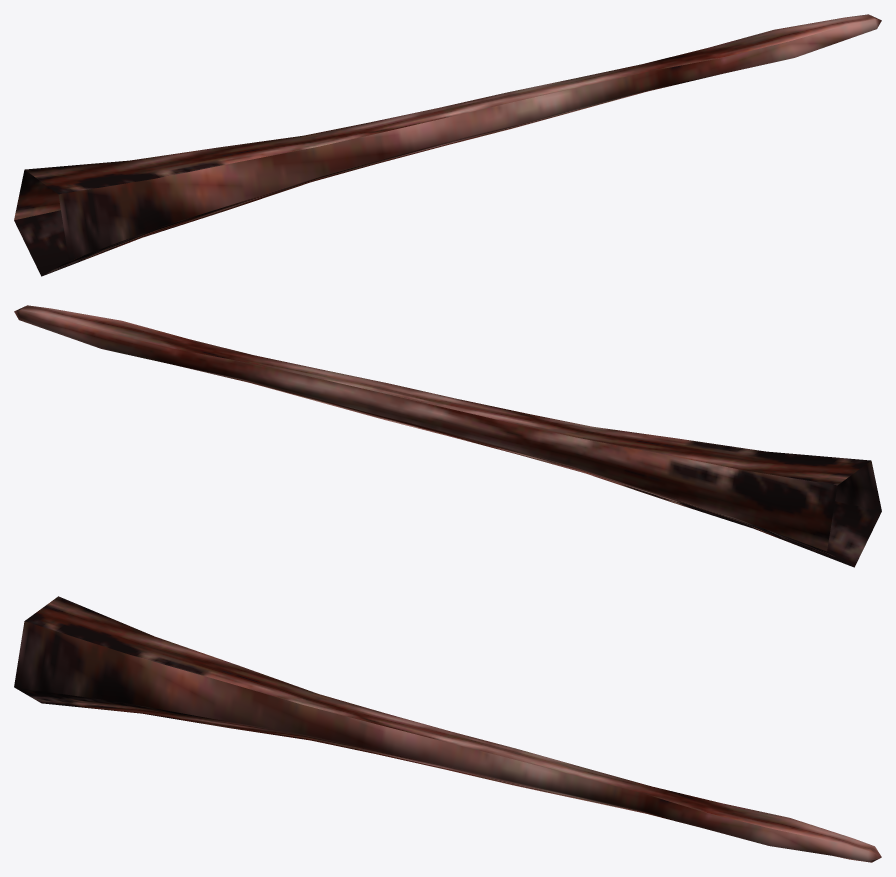
The model's file is em037_emdui.obj.
The picture shows the model from 3 angles, top to bottom: view 1: azimuth 30°, elevation 25°; view 2: azimuth 150°, elevation 25°; view 3: azimuth 330°, elevation 25°; orthographic projection.
Visible parts, largest first — view 1: part_00; view 2: part_00; view 3: part_00.
Part boxes in pixels (x1=…): part_00: x1=14, y1=14, x2=881, y2=276; part_00: x1=14, y1=305, x2=881, y2=567; part_00: x1=14, y1=596, x2=881, y2=862.
Bounding box in the file's own units: 9.37 × 1.01 × 1.06.
Materials: 1 (1 with a texture image).
